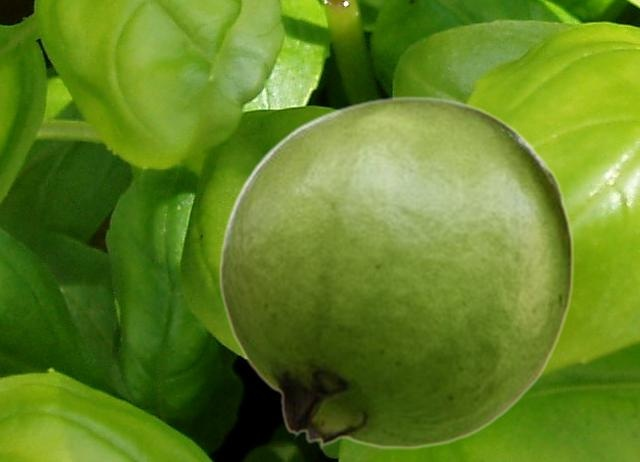guava: (218, 95, 574, 448)
